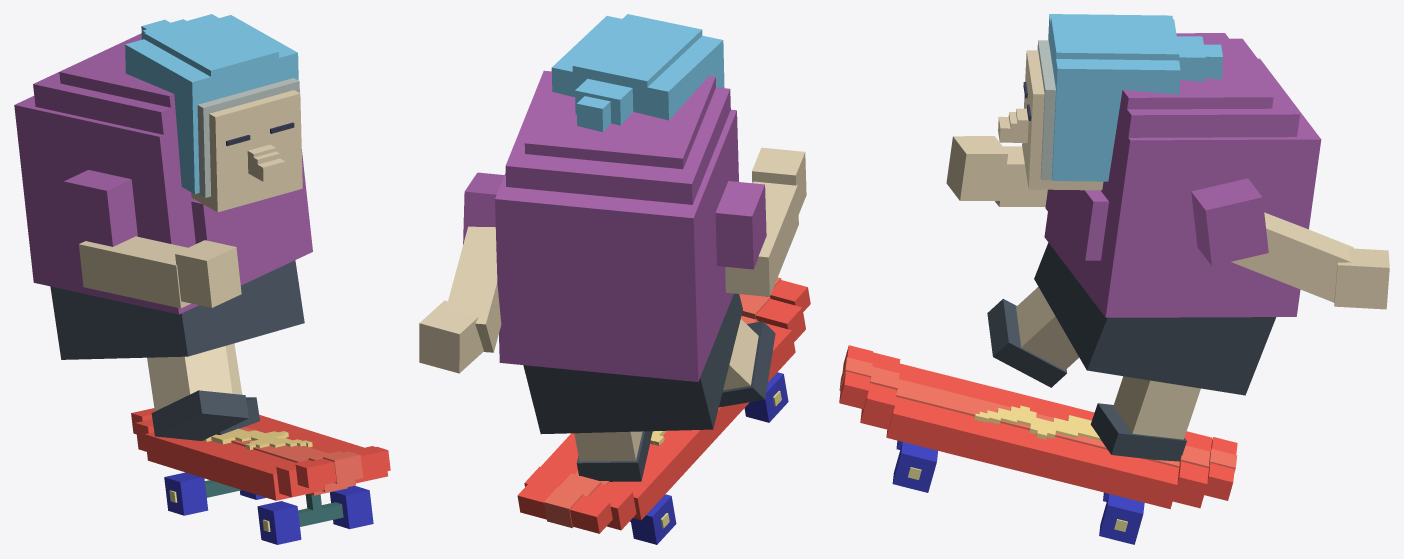
The model's file is Grandma.fbx.
3 views of the same model, side by side, from view 1: azimuth 30°, elevation 25°; view 2: azimuth 150°, elevation 25°; view 3: azimuth 270°, elevation 25° (orthographic). The views are drawn at different scales.
Parts seen in each view (by area): view 1: polySurface188; view 2: polySurface188; view 3: polySurface188.
Boxes of the visible parts, box(x1,y1,x2,y2) form: polySurface188: box(14, 14, 390, 544); polySurface188: box(419, 14, 810, 544); polySurface188: box(839, 14, 1389, 544).
Bounding box in the file's own units: 1.96 × 3.64 × 3.78.
